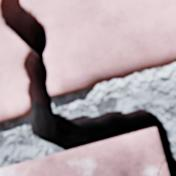brick: (0, 128, 169, 175)
broken_brick: (21, 0, 175, 98), (0, 0, 31, 122)
crack: (1, 0, 175, 175), (157, 166, 161, 175)
